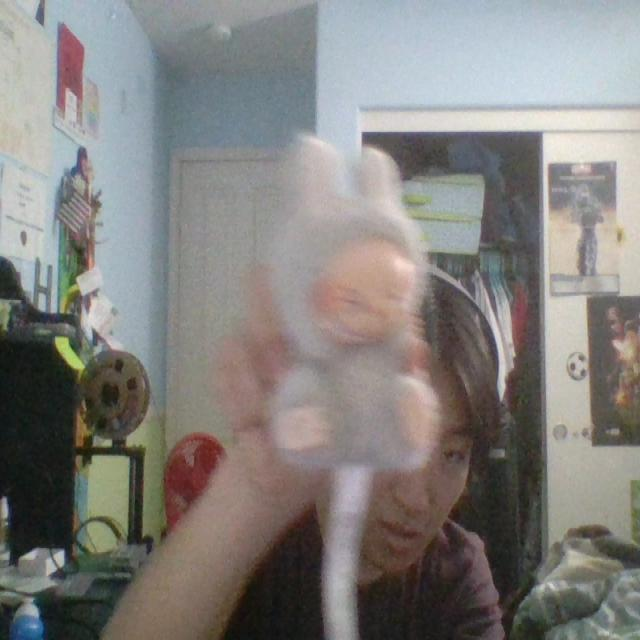labubu: (267, 137, 429, 471)
